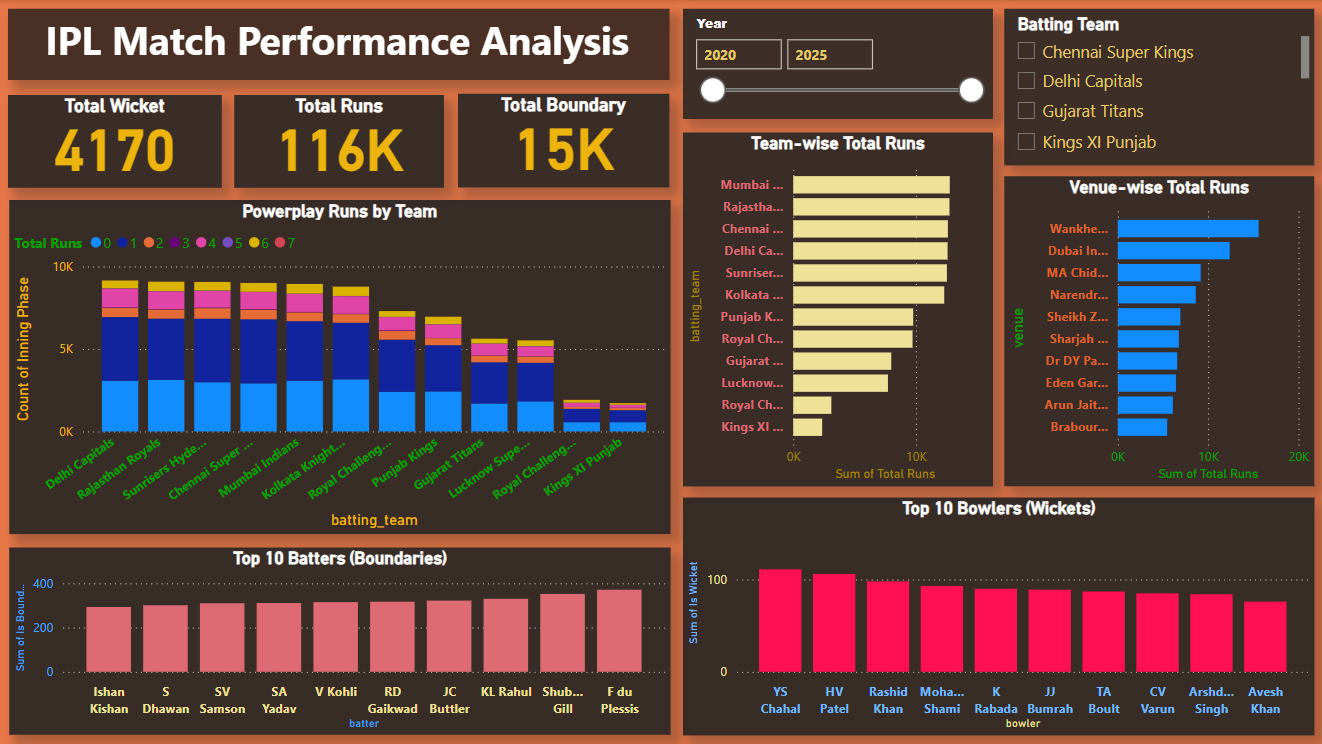

The dashboard page shown, as its layout file describes it:
{"tool":"powerbi","page":{"name":"Page 1","canvas":[1280,720],"ordinal":0},"visuals":[{"type":"card","title":"Total Runs","fields":{"Values":["ipl data.Total Runs"]},"box":[228,91.7,202.7,89.3],"z":0},{"type":"card","title":"Total Wicket","fields":{"Values":["ipl data.Is Wicket"]},"box":[9.7,91.7,206.3,89.3],"z":1000},{"type":"card","title":"Total Boundary","fields":{"Values":["ipl data.Is Boundary"]},"box":[444,90.5,203.9,90.5],"z":2000},{"type":"lineClusteredColumnComboChart","title":"Top 10 Batters (Boundaries)","fields":{"Category":["ipl data.batter"],"Y":["ipl data.Is Boundary"]},"box":[10.9,528.4,638.2,181],"z":3000},{"type":"columnChart","title":"Top 10 Bowlers (Wickets)","fields":{"Category":["ipl data.bowler"],"Y":["ipl data.Is Wicket"]},"box":[661.1,480.2,609.3,229.2],"z":4000},{"type":"clusteredBarChart","title":"Team-wise Total Runs","fields":{"Category":["ipl data.batting_team"],"Y":["ipl data.Total Runs"]},"box":[661.1,127.9,299.2,341.4],"z":5000},{"type":"columnChart","title":"Powerplay Runs by Team","fields":{"Category":["ipl data.batting_team"],"Y":["ipl data.Inning Phase"],"Series":["ipl data.Total Runs"]},"box":[10.9,193,638.2,322.1],"z":6000},{"type":"clusteredBarChart","title":"Venue-wise Total Runs","fields":{"Category":["ipl data.venue"],"Y":["ipl data.Total Runs"]},"box":[971.2,170.1,299.2,299.2],"z":7000},{"type":"slicer","fields":{"Values":["ipl data.batting_team"]},"box":[971.2,8.4,299.2,150.8],"z":8000},{"type":"slicer","fields":{"Values":["ipl data.Year"]},"box":[661.1,8.4,299.2,106.2],"z":9000},{"type":"textbox","box":[9.7,8.4,638.2,68.8],"z":10000}]}

Visuals, with their boxes in screenshot pixels (x1, y1, x2, y2), scaled from the page's 1280x720 canvas onto the 1322x744 screenshot:
"Total Runs" card: 235/95/445/187
"Total Wicket" card: 10/95/223/187
"Total Boundary" card: 459/94/669/187
"Top 10 Batters (Boundaries)" lineClusteredColumnComboChart: 11/546/670/733
"Top 10 Bowlers (Wickets)" columnChart: 683/496/1312/733
"Team-wise Total Runs" clusteredBarChart: 683/132/992/485
"Powerplay Runs by Team" columnChart: 11/199/670/532
"Venue-wise Total Runs" clusteredBarChart: 1003/176/1312/485
slicer - ipl data.batting_team: 1003/9/1312/165
slicer - ipl data.Year: 683/9/992/118
textbox: 10/9/669/80
